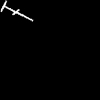double_crochet: (1, 1, 32, 20)
